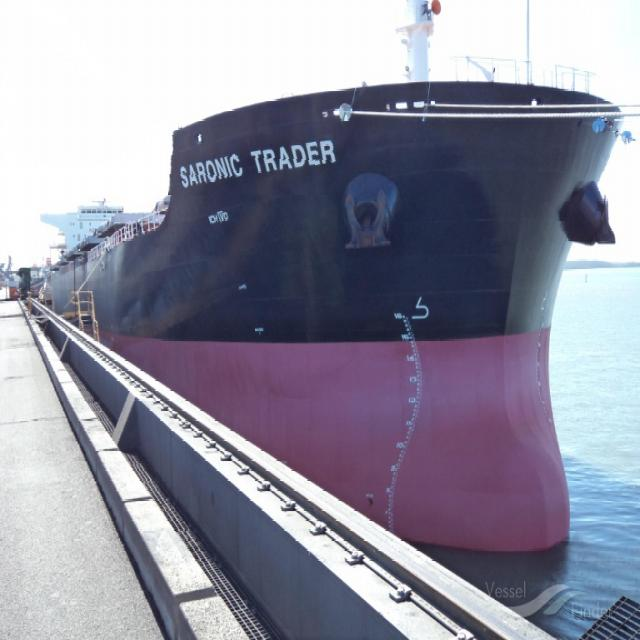OCR: (168, 126, 345, 196)
